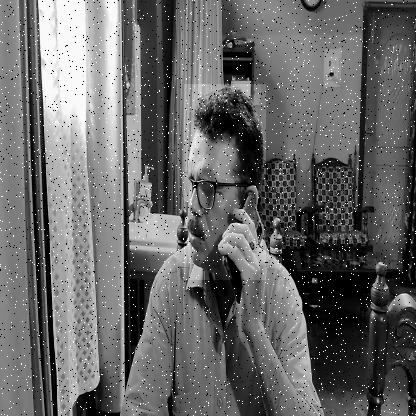Distracted: (184, 84, 266, 280)
